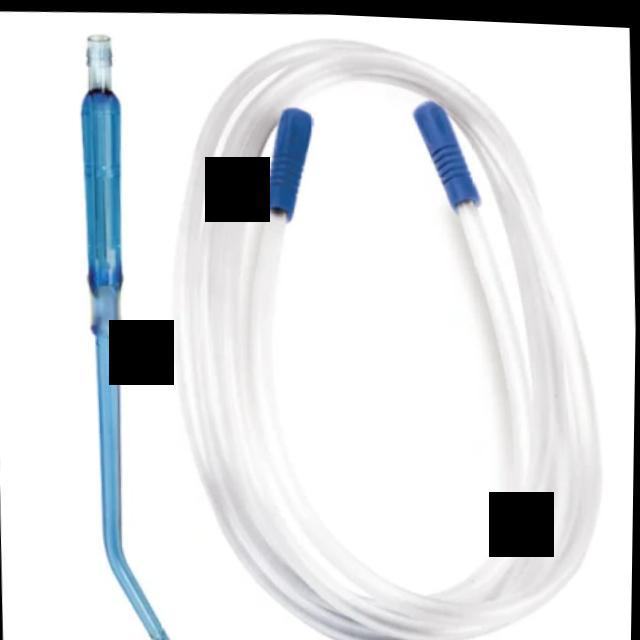Suction Tube Nozzle: (65, 5, 621, 640)
